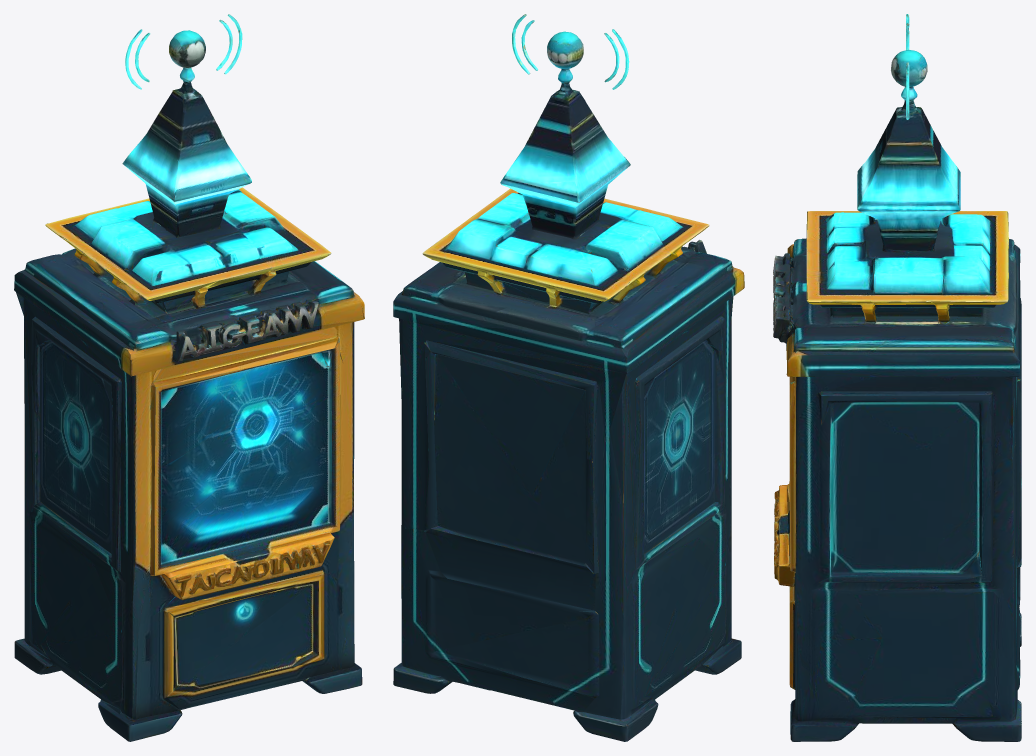
File: algebra-terminal.glb
3 views of the same model, side by side, from view 1: azimuth 30°, elevation 25°; view 2: azimuth 150°, elevation 25°; view 3: azimuth 270°, elevation 25° (orthographic).
Visible parts, largest first — view 1: Mesh_0; view 2: Mesh_0; view 3: Mesh_0.
Part boxes in pixels (<box>): Mesh_0: <box>14,14,364,741</box>; Mesh_0: <box>393,14,744,741</box>; Mesh_0: <box>773,14,1021,741</box>.
Bounding box in the file's own units: 0.9053 × 2.4 × 0.833.
Materials: 1 (1 with a texture image).
